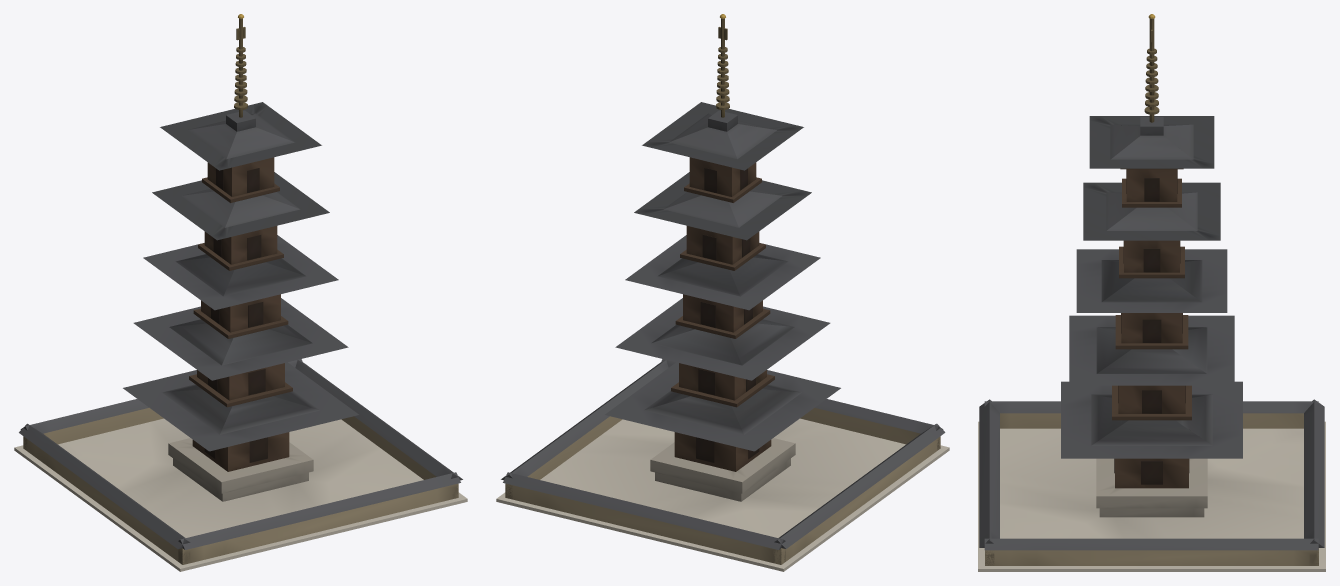
File: yasaka-pagoda.glb
3 views of the same model, side by side, from view 1: azimuth 30°, elevation 25°; view 2: azimuth 150°, elevation 25°; view 3: azimuth 270°, elevation 25° (orthographic). The views are drawn at different scales.
Visible parts, largest first — view 1: p2_pagoda, p0_grounds, p1_pagoda; view 2: p2_pagoda, p0_grounds, p1_pagoda; view 3: p2_pagoda, p0_grounds, p1_pagoda.
Part boxes in pixels (x1,y1,x2,y2): p2_pagoda: (123,14,358,493); p0_grounds: (14,359,467,571); p1_pagoda: (173,458,308,501); p2_pagoda: (605,14,840,493); p0_grounds: (496,359,949,571); p1_pagoda: (655,458,790,501); p2_pagoda: (1061,14,1242,508); p0_grounds: (978,399,1325,571); p1_pagoda: (1099,508,1204,517).
Bounding box in the file's own units: 30 × 46.08 × 30.
